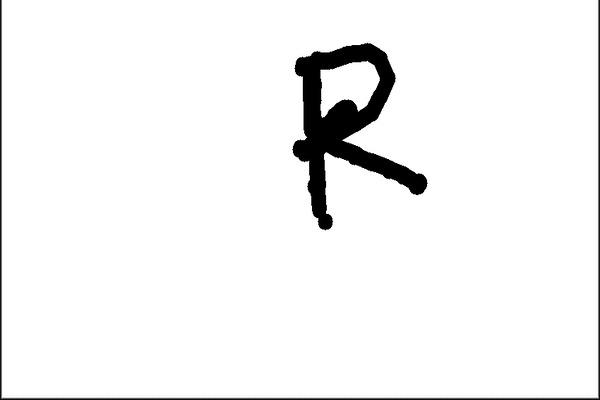R: (275, 35, 435, 240)
